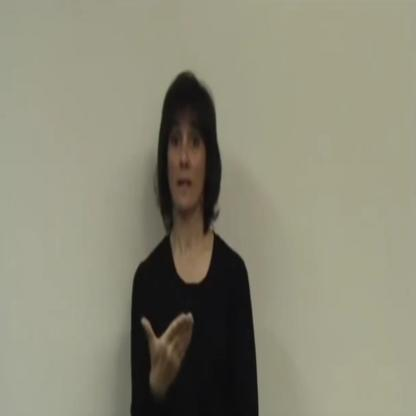ThankYou: (137, 64, 236, 400)
